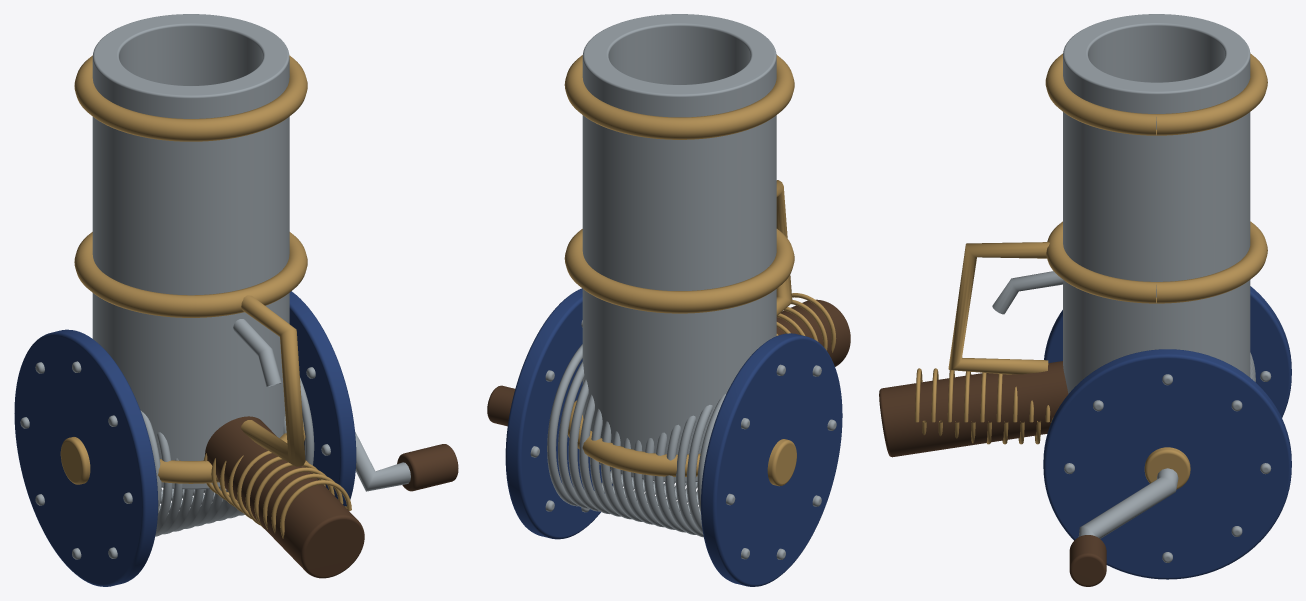
The model's file is hookshot.glb.
3 renders of one model, left to right at view 1: azimuth 30°, elevation 25°; view 2: azimuth 150°, elevation 25°; view 3: azimuth 270°, elevation 25°, orthographic. The views are drawn at different scales.
Visible parts, largest first — view 1: Hollow barrel with visible bore, Reel flange, Leather pistol grip, Reel flange.001, Brass barrel collar.002, Brass barrel collar.001, Trigger guard, Horn crank knob, Winding crank, Brass barrel collar, Curved trigger, Reel axle (+3 smaller); view 2: Hollow barrel with visible bore, Reel flange, Reel flange.001, Brass barrel collar.001, Brass barrel collar.002, Brass barrel collar, Leather pistol grip, Coiled cable.015, Coiled cable.014, Coiled cable.013, Coiled cable.002, Coiled cable.003 (+13 smaller); view 3: Hollow barrel with visible bore, Reel flange.001, Leather pistol grip, Brass barrel collar.002, Brass barrel collar.001, Reel flange, Trigger guard, Winding crank, Horn crank knob, Reel axle.001, Curved trigger.
Part boxes in pixels (x1=…): Hollow barrel with visible bore: x1=92, y1=14, x2=289, y2=489; Reel flange: x1=14, y1=329, x2=158, y2=586; Leather pistol grip: x1=205, y1=416, x2=364, y2=578; Reel flange.001: x1=289, y1=291, x2=356, y2=506; Brass barrel collar.002: x1=74, y1=55, x2=307, y2=141; Brass barrel collar.001: x1=74, y1=232, x2=307, y2=317; Trigger guard: x1=241, y1=295, x2=305, y2=466; Horn crank knob: x1=397, y1=444, x2=458, y2=491; Winding crank: x1=355, y1=431, x2=410, y2=491; Brass barrel collar: x1=158, y1=422, x2=305, y2=483; Curved trigger: x1=233, y1=319, x2=281, y2=386; Reel axle: x1=60, y1=437, x2=90, y2=484; Hollow barrel with visible bore: x1=582, y1=14, x2=776, y2=482; Reel flange: x1=701, y1=333, x2=842, y2=586; Reel flange.001: x1=505, y1=288, x2=612, y2=539; Brass barrel collar.001: x1=564, y1=229, x2=794, y2=313; Brass barrel collar.002: x1=564, y1=55, x2=794, y2=139; Brass barrel collar: x1=568, y1=400, x2=700, y2=476; Leather pistol grip: x1=776, y1=299, x2=850, y2=366; Coiled cable.015: x1=547, y1=344, x2=612, y2=506; Coiled cable.014: x1=558, y1=361, x2=623, y2=508; Coiled cable.013: x1=568, y1=378, x2=634, y2=511; Coiled cable.002: x1=686, y1=405, x2=712, y2=534; Coiled cable.003: x1=676, y1=415, x2=703, y2=537; Hollow barrel with visible bore: x1=1063, y1=14, x2=1250, y2=393; Reel flange.001: x1=1043, y1=349, x2=1291, y2=579; Leather pistol grip: x1=879, y1=361, x2=1068, y2=457; Brass barrel collar.002: x1=1045, y1=53, x2=1267, y2=135; Brass barrel collar.001: x1=1046, y1=221, x2=1267, y2=303; Reel flange: x1=1044, y1=286, x2=1291, y2=417; Trigger guard: x1=948, y1=242, x2=1049, y2=374; Winding crank: x1=1078, y1=468, x2=1178, y2=538; Horn crank knob: x1=1069, y1=535, x2=1106, y2=586; Reel axle.001: x1=1144, y1=447, x2=1190, y2=489; Curved trigger: x1=992, y1=271, x2=1063, y2=314.
Bounding box in the file's own units: 0.34 × 0.484 × 0.3788.
